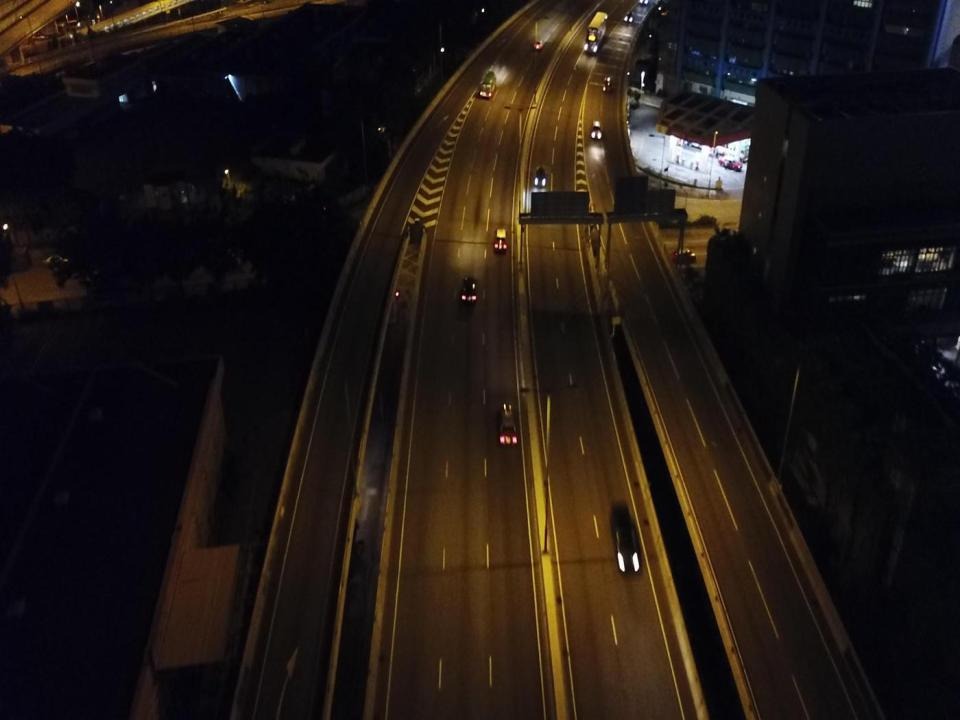car: (608, 504, 642, 575), (496, 402, 517, 448), (458, 276, 477, 309), (42, 253, 72, 267), (669, 248, 696, 263), (718, 155, 743, 171), (494, 226, 508, 253), (533, 165, 548, 189), (590, 118, 602, 142), (602, 76, 612, 92), (624, 11, 633, 23), (534, 40, 543, 50)
truck: (584, 11, 607, 56)
van: (479, 70, 496, 100), (55, 21, 66, 37), (65, 20, 80, 30)
